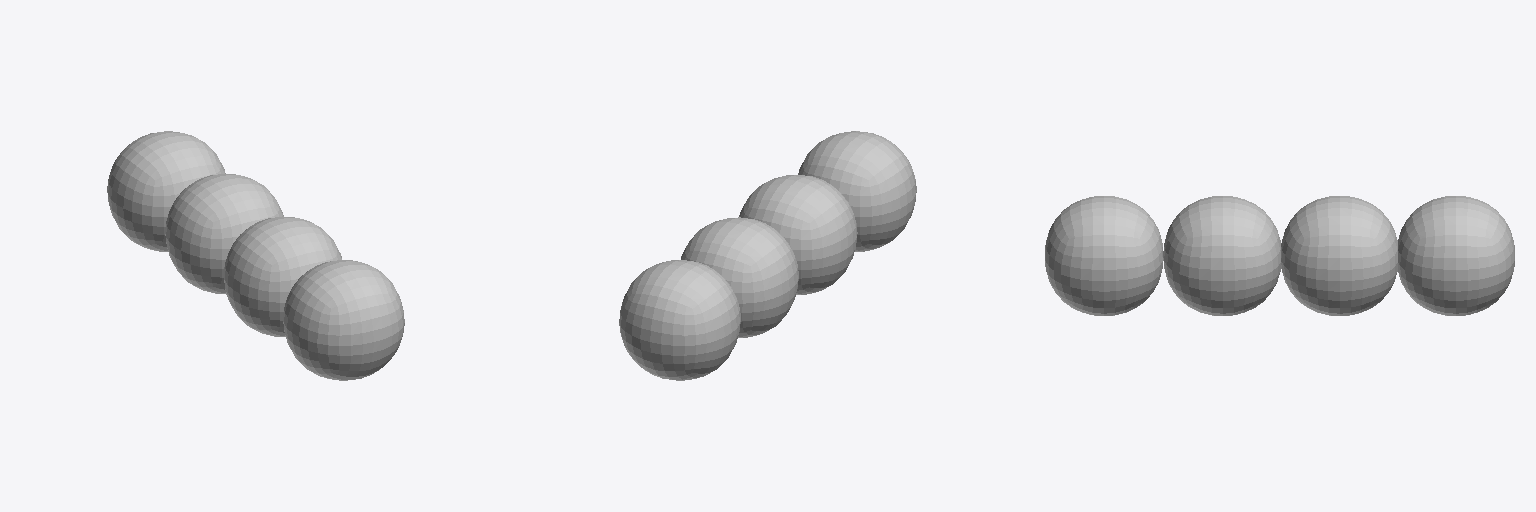
The model's file is sphere_tog.obj.
3 renders of one model, left to right at view 1: azimuth 30°, elevation 25°; view 2: azimuth 150°, elevation 25°; view 3: azimuth 270°, elevation 25°, orthographic.
Parts seen in each view (by area): view 1: polySurface3; view 2: polySurface3; view 3: polySurface3.
Boxes of the visible parts, <box> form: polySurface3: <box>107,131,404,380</box>; polySurface3: <box>619,131,916,380</box>; polySurface3: <box>1045,196,1514,315</box>.
Bounding box in the file's own units: 1.27 × 1.27 × 5.02.